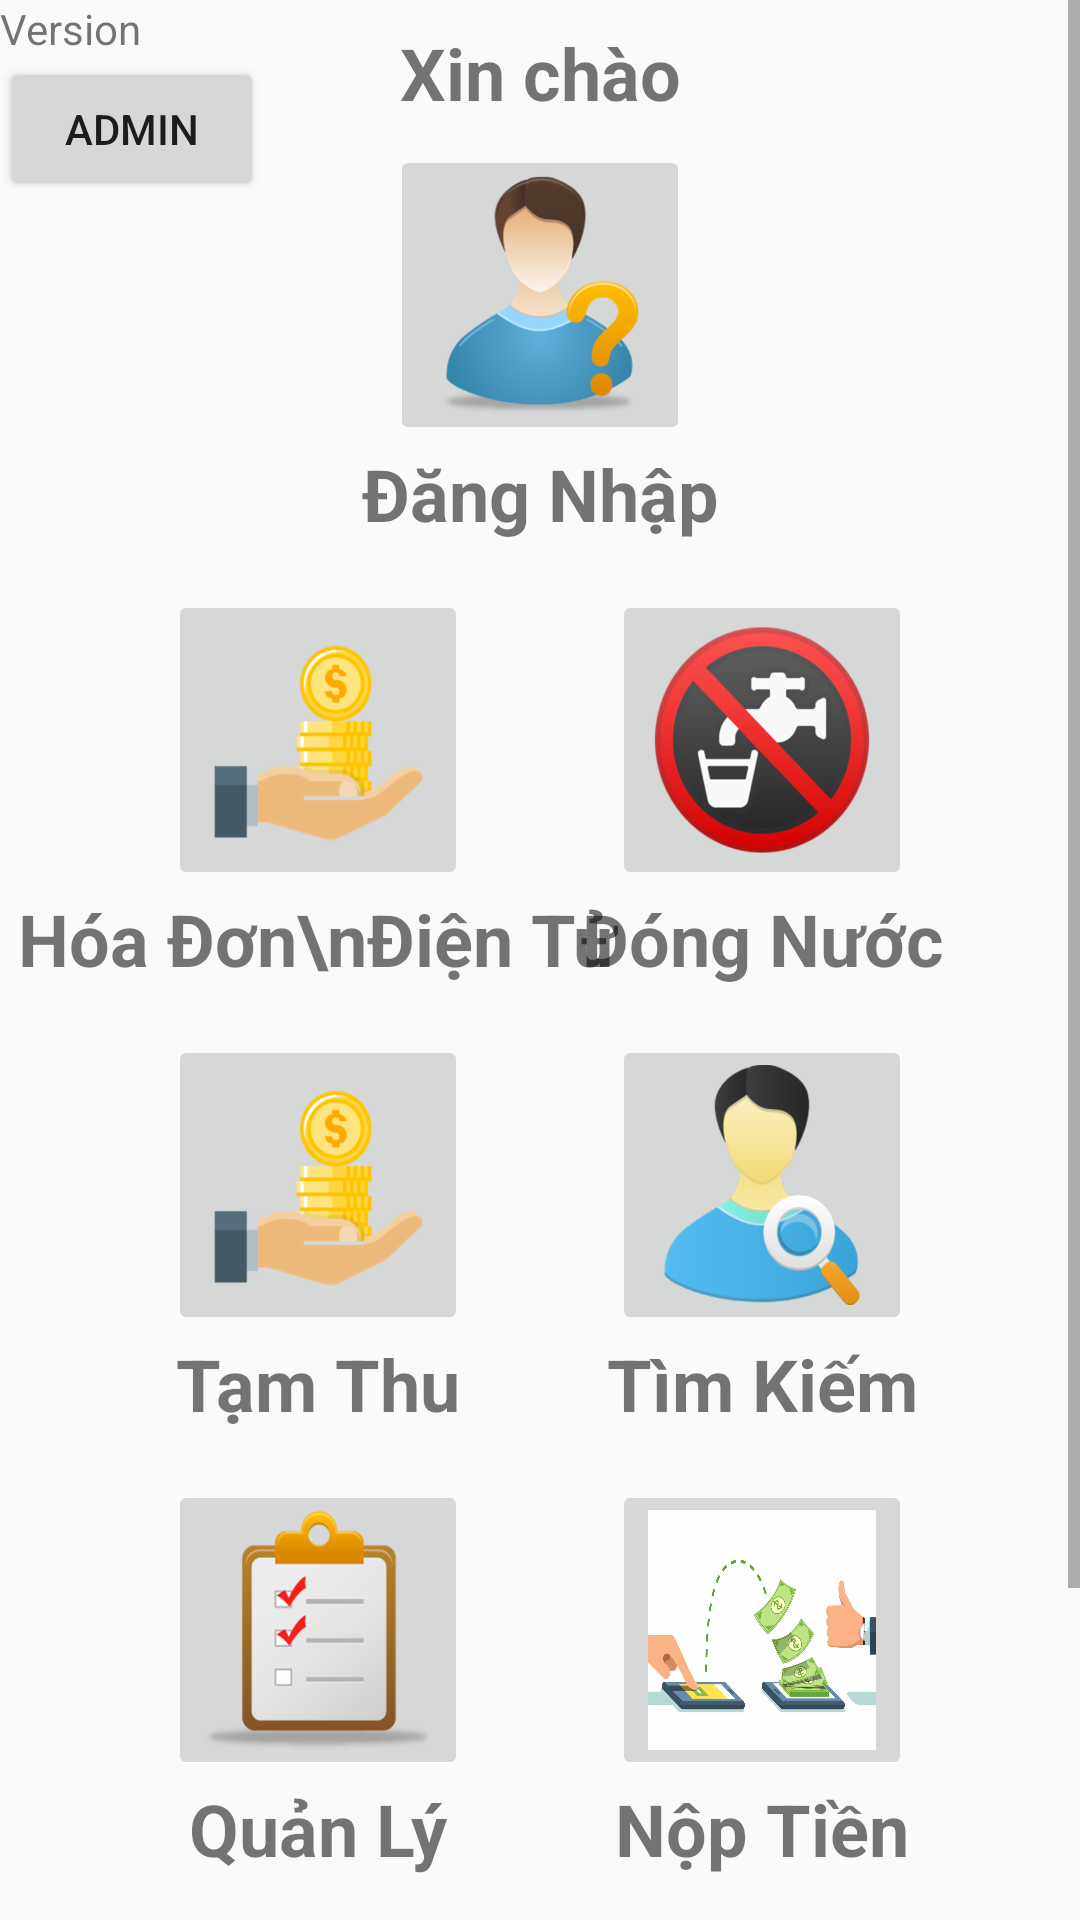

Icons on this 1080x1920 Android screen, each with its box as (x1, y1, x2, y2):
checklistx: (180, 1498, 456, 1762)
hanh thu: (180, 608, 456, 872), (180, 1053, 456, 1317)
